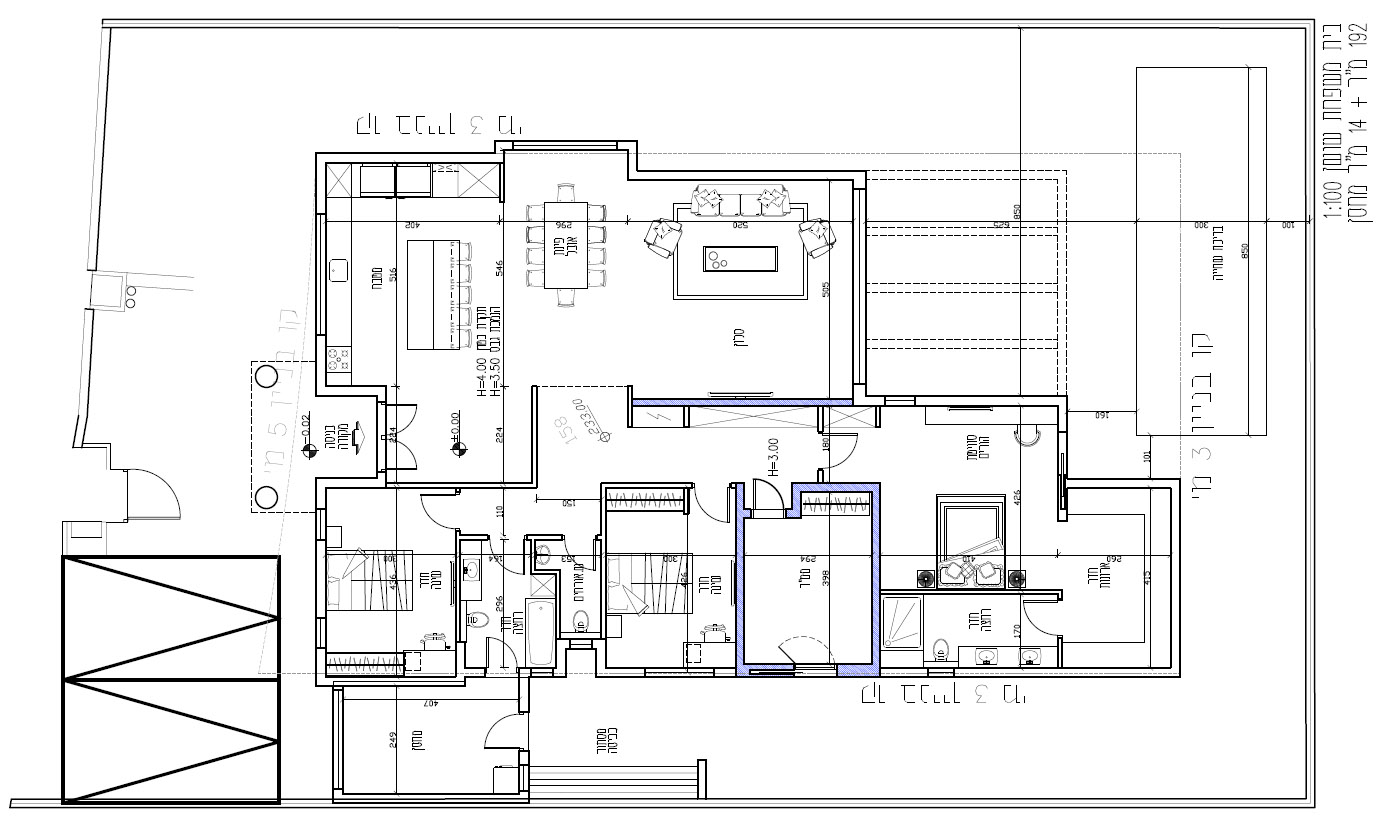door: (133, 462, 188, 531), (1016, 598, 1059, 639), (476, 710, 518, 751), (486, 543, 528, 581), (555, 542, 597, 580), (482, 628, 524, 666), (691, 490, 733, 528), (746, 472, 788, 510), (825, 432, 867, 470), (419, 492, 454, 529), (389, 400, 419, 438), (389, 439, 419, 477)
wall: (633, 397, 854, 407), (872, 483, 881, 678), (736, 483, 745, 678)
window: (316, 214, 327, 335), (513, 140, 618, 152), (333, 689, 345, 788), (644, 667, 714, 678), (926, 667, 955, 680), (885, 395, 914, 408), (316, 510, 327, 541), (316, 617, 327, 648)
